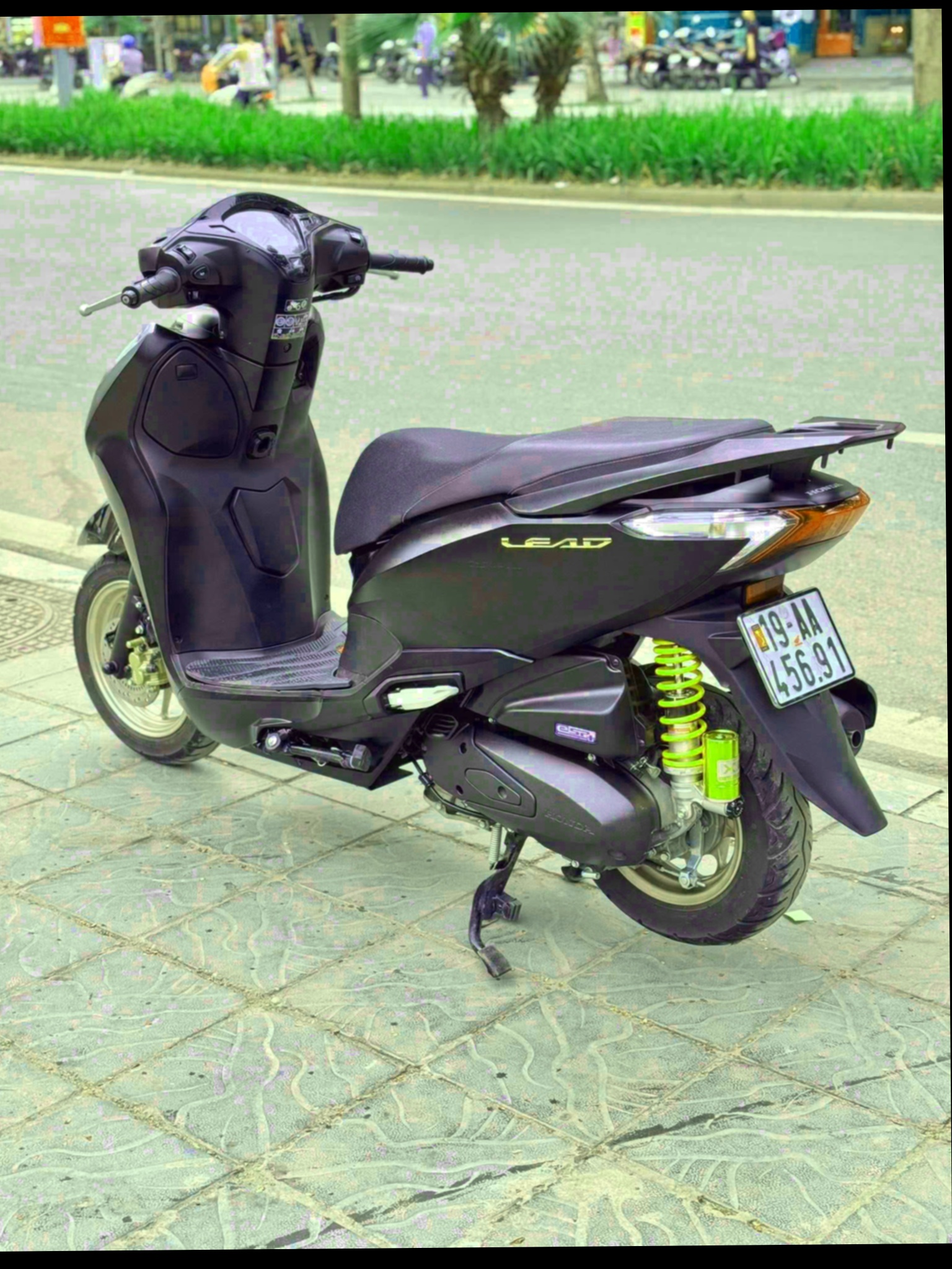Bien-so: (743, 536, 863, 669)
